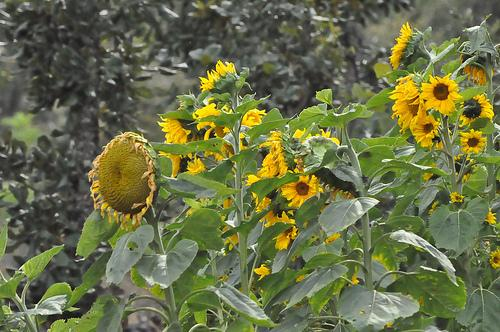sunflower: (89, 133, 157, 228), (422, 74, 458, 113), (283, 175, 322, 205), (458, 94, 492, 126), (459, 129, 485, 155)
